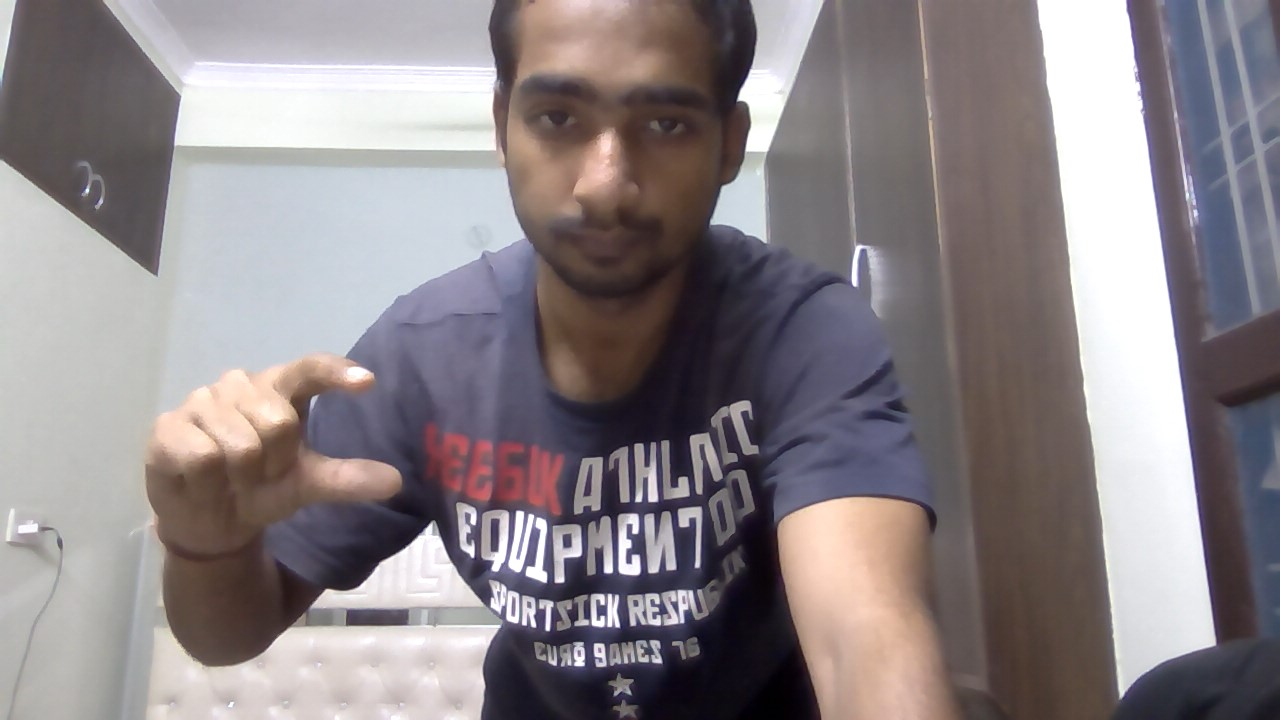Paste: (131, 340, 415, 563)
